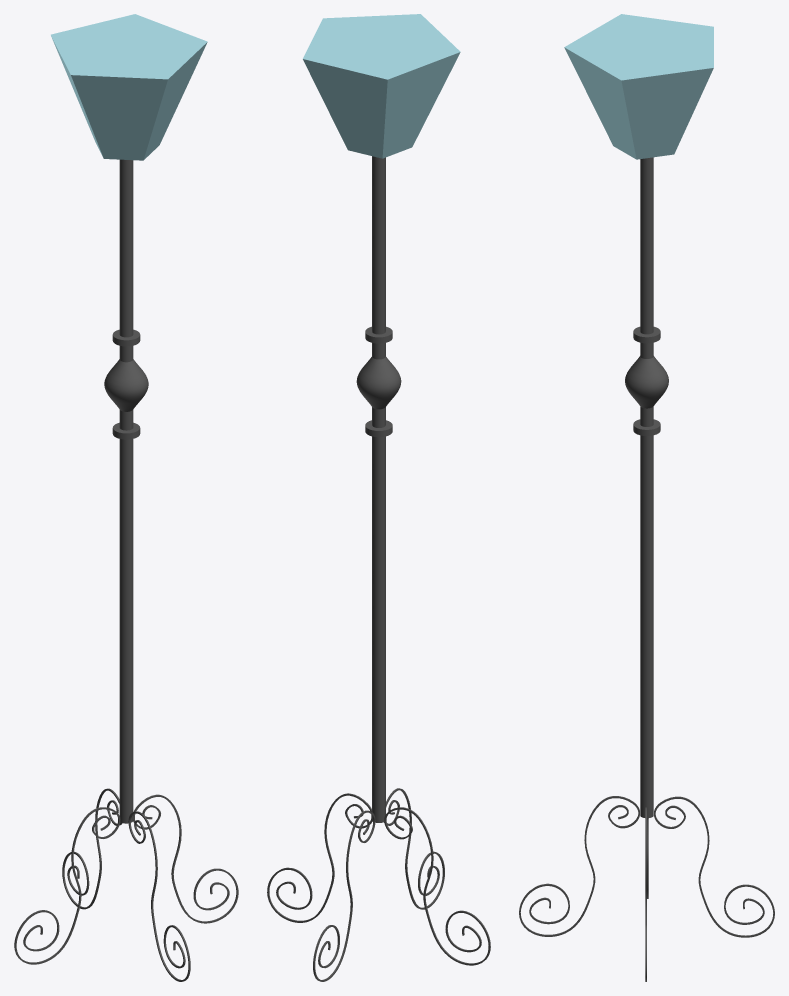
The model's file is standinglamp_renderv3.glb.
3 views of the same model, side by side, from view 1: azimuth 30°, elevation 25°; view 2: azimuth 150°, elevation 25°; view 3: azimuth 270°, elevation 25° (orthographic).
Visible parts, largest first — view 1: g Body4, g Body2, g Body3, g Body5, g Body4:1, g Body1; view 2: g Body4, g Body2, g Body3, g Body5, g Body1, g Body4:1; view 3: g Body4, g Body2, g Body4:1, g Body1.
Boxes of the visible parts, <box> form: g Body4: <box>51,14,207,160</box>; g Body2: <box>104,159,148,823</box>; g Body3: <box>14,807,120,964</box>; g Body5: <box>133,794,238,923</box>; g Body4:1: <box>128,811,190,981</box>; g Body1: <box>62,788,122,909</box>; g Body4: <box>303,14,460,158</box>; g Body2: <box>356,156,401,822</box>; g Body3: <box>384,807,490,965</box>; g Body5: <box>267,793,372,922</box>; g Body1: <box>313,810,375,981</box>; g Body4:1: <box>384,788,444,909</box>; g Body4: <box>564,14,713,159</box>; g Body2: <box>625,157,668,818</box>; g Body4:1: <box>519,796,639,936</box>; g Body1: <box>654,796,774,937</box>.
Bounding box in the file's own units: 47.65 × 183 × 47.65.
